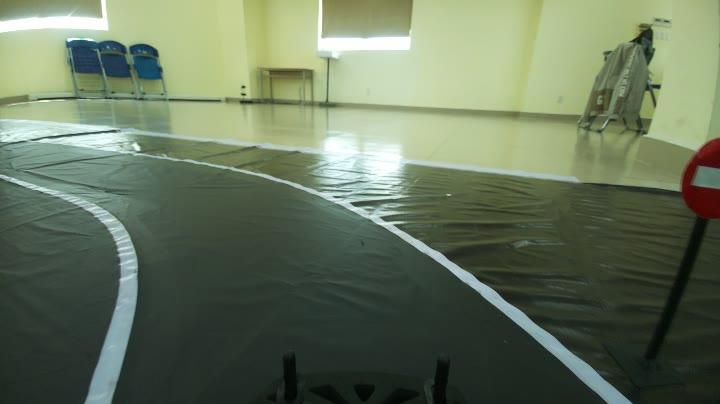no_entry: (679, 126, 720, 223)
